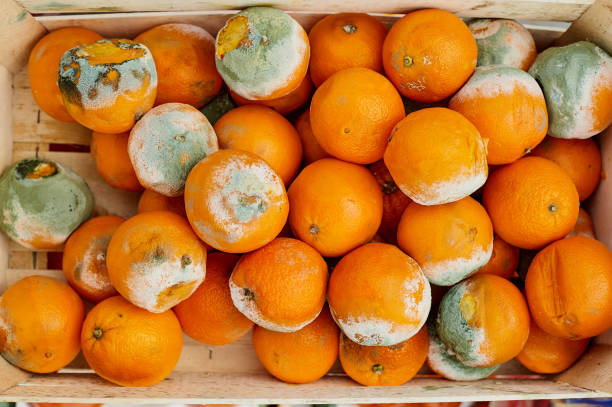Defected Orange: (185, 145, 288, 249), (378, 107, 495, 195), (516, 236, 612, 337), (0, 269, 88, 376), (0, 152, 95, 248), (438, 272, 532, 365), (396, 194, 501, 277), (530, 35, 612, 141), (217, 1, 309, 95), (383, 13, 482, 99), (112, 211, 204, 303), (330, 252, 430, 335), (130, 103, 216, 198), (64, 40, 155, 129), (450, 67, 547, 150), (456, 13, 539, 70)
Good Orange: (287, 161, 383, 253)
